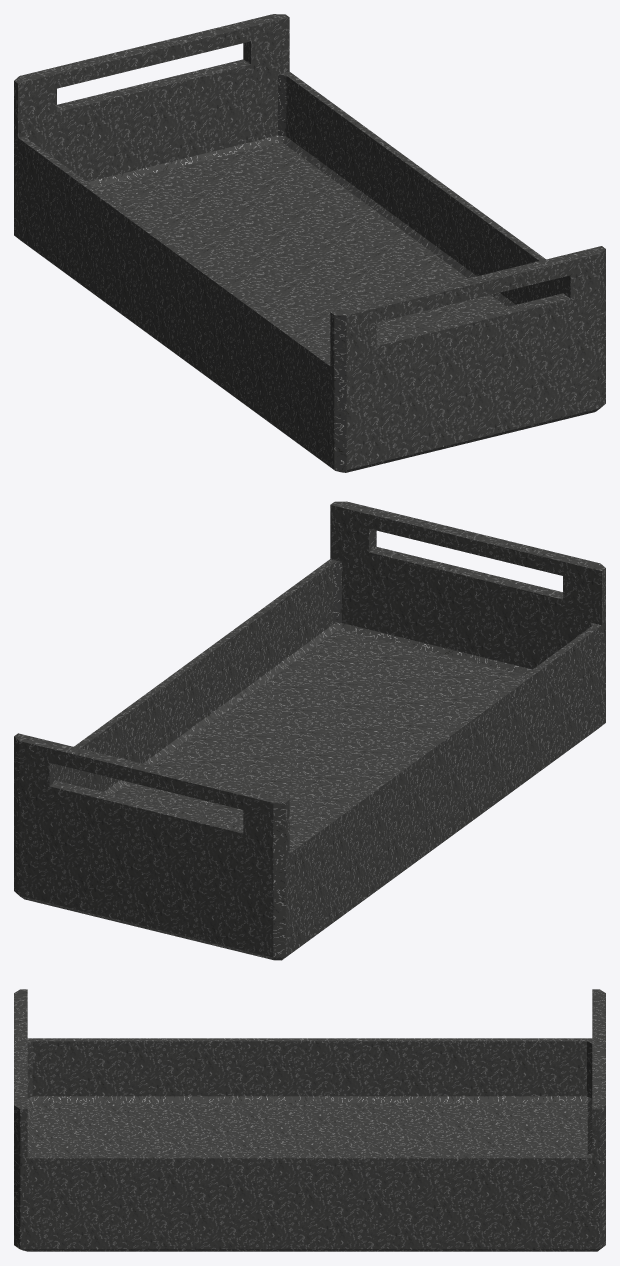
The model's file is tapeholder.fbx.
3 renders of one model, top to bottom at view 1: azimuth 30°, elevation 25°; view 2: azimuth 150°, elevation 25°; view 3: azimuth 270°, elevation 25°, orthographic. The views are drawn at different scales.
Parts seen in each view (by area): view 1: tape_box; view 2: tape_box; view 3: tape_box.
Boxes of the visible parts, <box> form: tape_box: <box>14,14,605,472</box>; tape_box: <box>14,501,605,960</box>; tape_box: <box>14,989,605,1251</box>.
Bounding box in the file's own units: 1.46 × 0.8203 × 3.04.
Materials: 1 (1 with a texture image).
